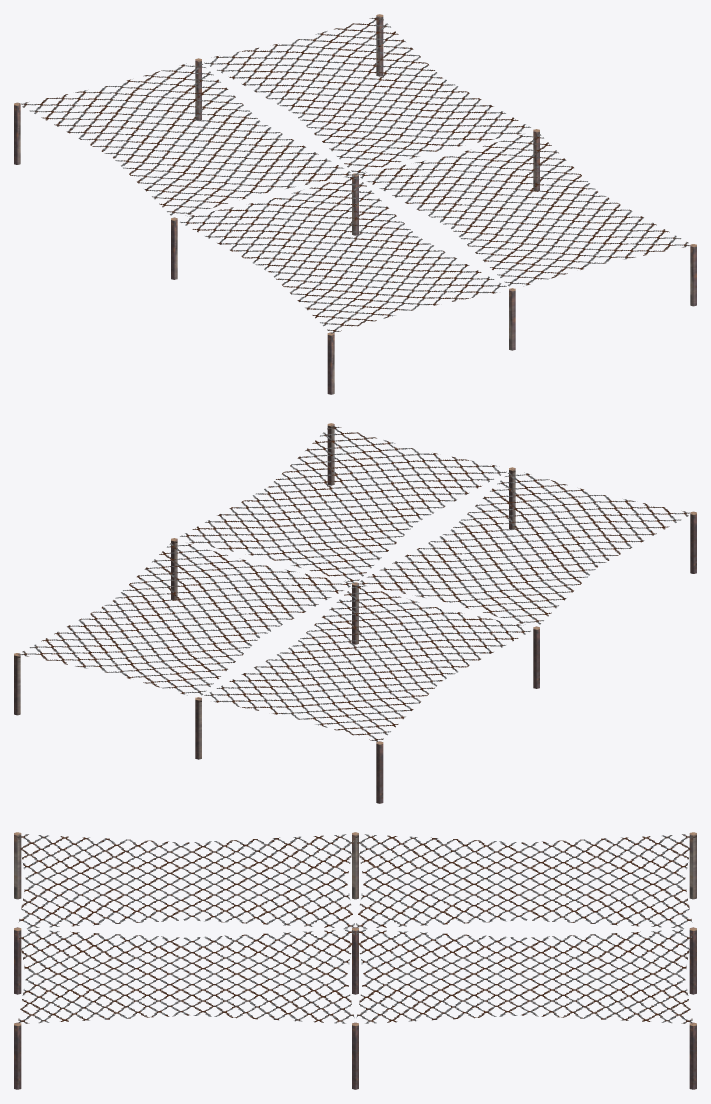
File: ParkourCrawlspace01.obj
3 renders of one model, top to bottom at view 1: azimuth 30°, elevation 25°; view 2: azimuth 150°, elevation 25°; view 3: azimuth 270°, elevation 25°, orthographic. The views are drawn at different scales.
Parts seen in each view (by area): view 1: ParkourCrawlspace01; view 2: ParkourCrawlspace01; view 3: ParkourCrawlspace01.
Part boxes in pixels (box(x1,y1,x2,y2)): ParkourCrawlspace01: box(14, 14, 696, 394); ParkourCrawlspace01: box(14, 423, 696, 803); ParkourCrawlspace01: box(14, 832, 696, 1089).
Bounding box in the file's own units: 8.15 × 1.25 × 12.13.
